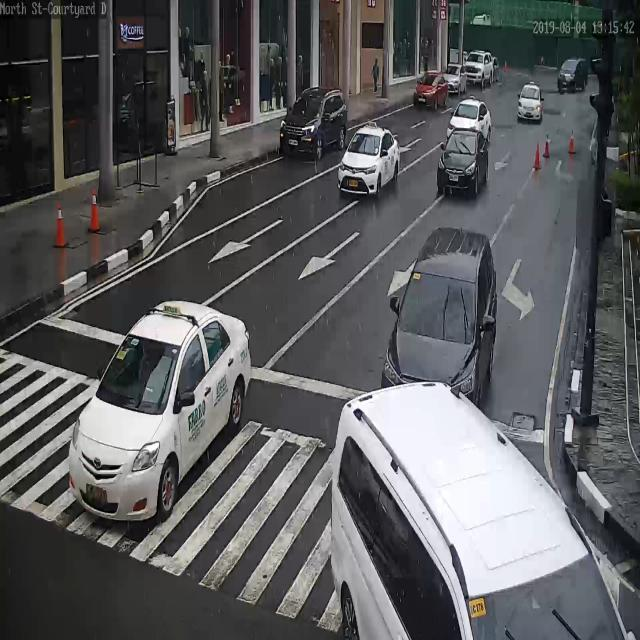car: (69, 300, 250, 521), (383, 226, 496, 416), (279, 88, 348, 159), (338, 126, 399, 195), (437, 129, 489, 196), (447, 98, 491, 140), (414, 72, 448, 110), (464, 50, 494, 87), (517, 81, 544, 121), (442, 67, 470, 96)
van: (330, 383, 632, 640), (556, 59, 588, 95)
